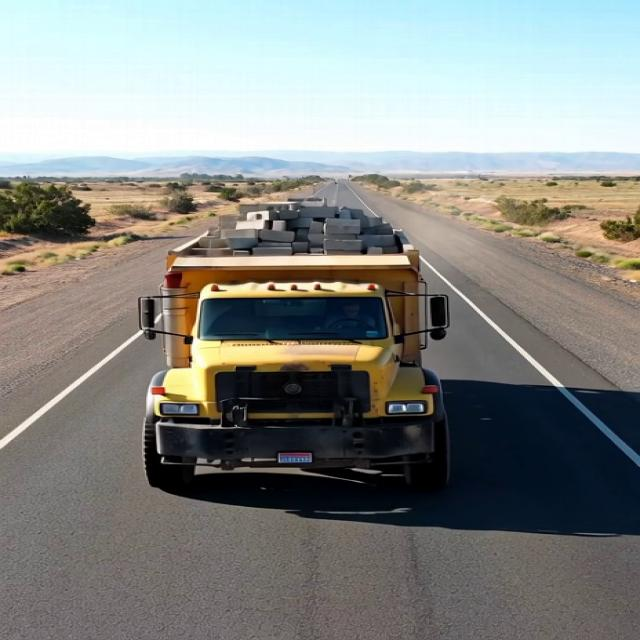Box: (168, 197, 429, 271)
Truck: (131, 190, 464, 505)
